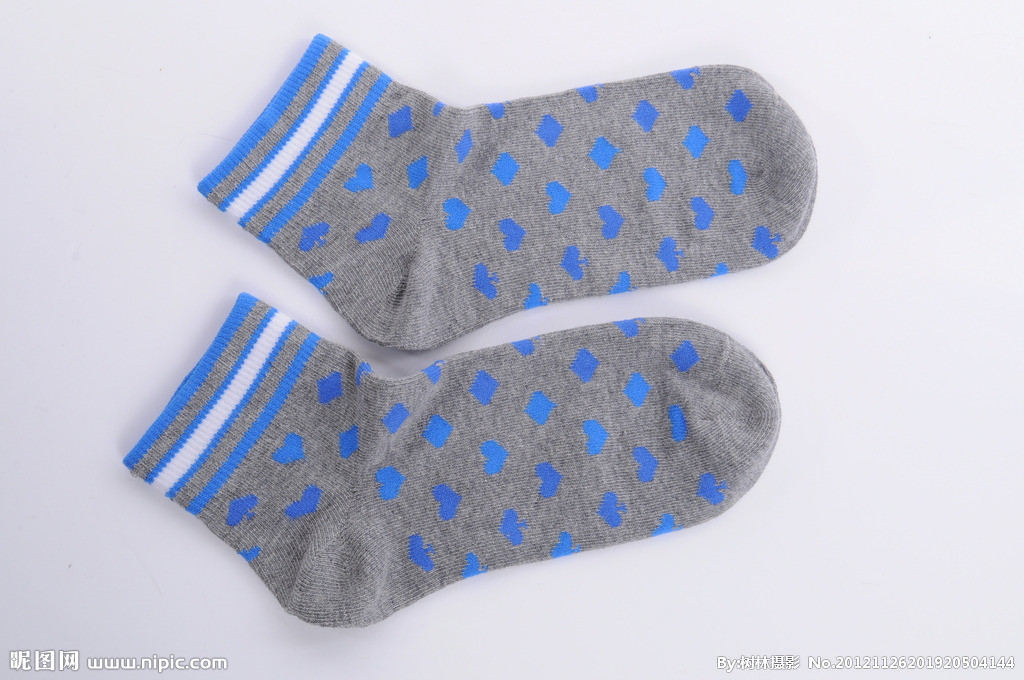flexible: (120, 291, 784, 631), (201, 33, 820, 348)
